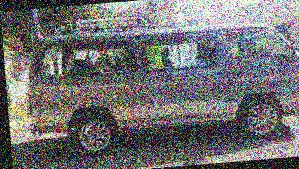van: (20, 2, 299, 163)
